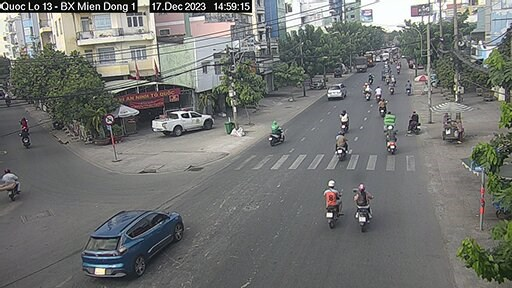car: (71, 190, 188, 284), (146, 103, 217, 140), (324, 77, 346, 103)
motorbike: (338, 182, 378, 222), (319, 176, 347, 233), (254, 116, 287, 144), (375, 126, 402, 153), (337, 111, 358, 136), (330, 130, 349, 155)
